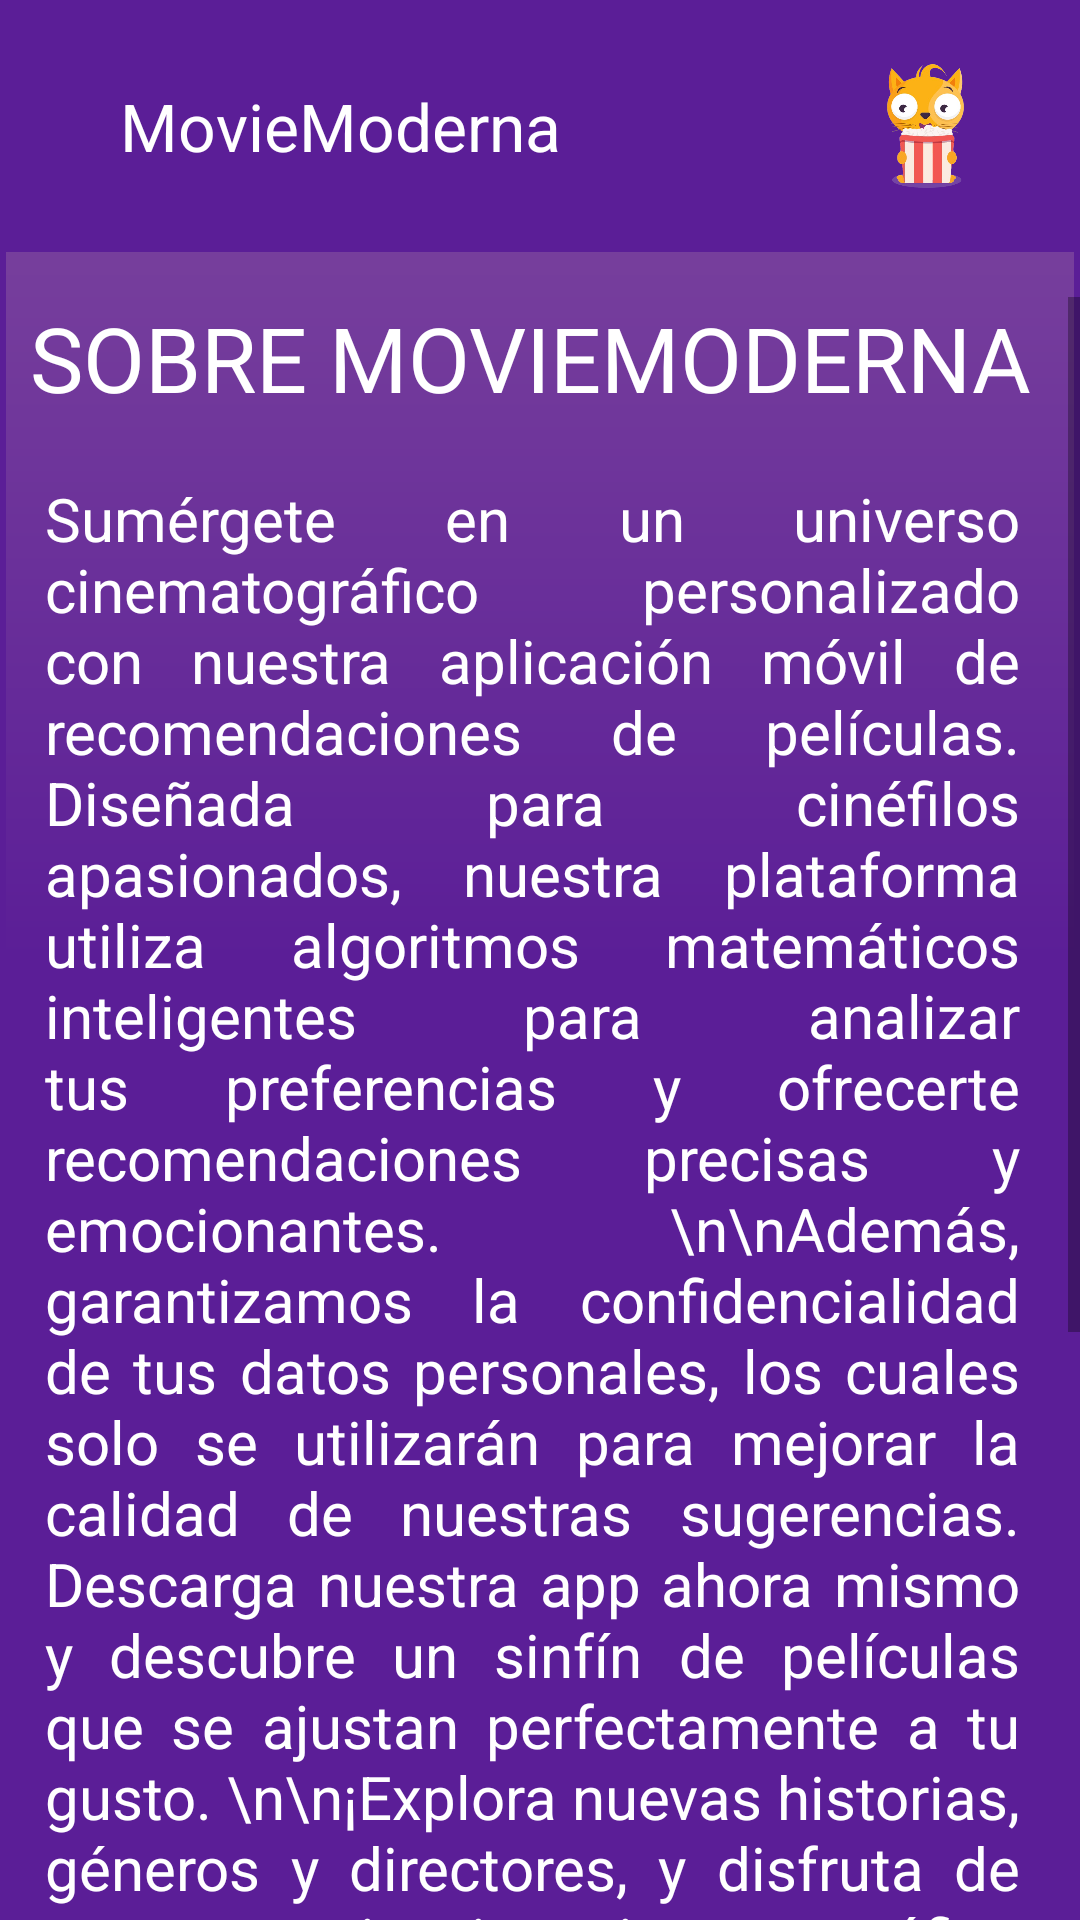

Icons on this 1080×1920 Android screen, each with its box as (x1, y1, x2, y2):
gato: (887, 64, 964, 188)
